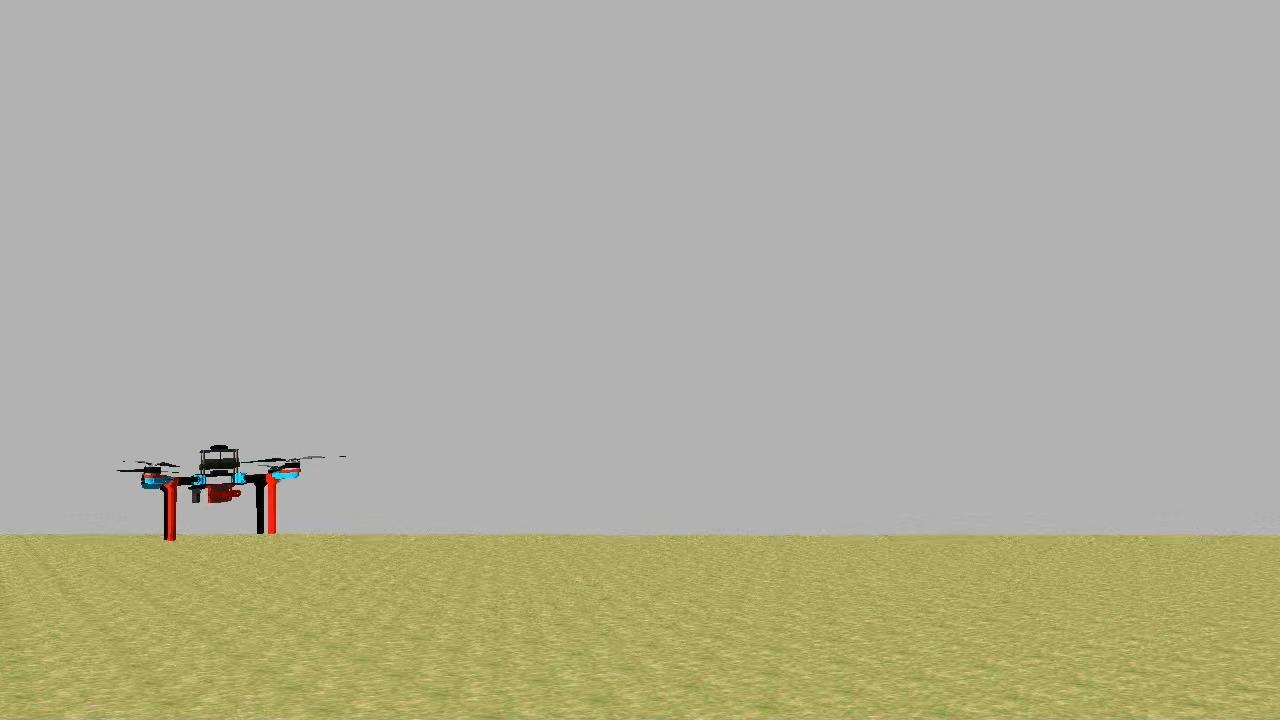UAV: (133, 436, 310, 550)
